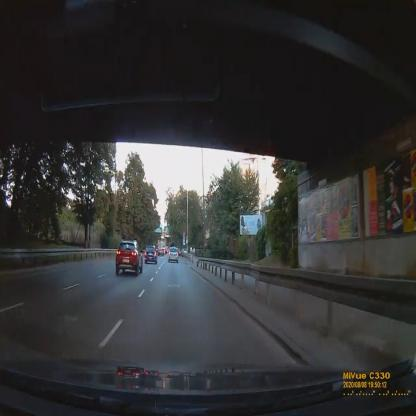cars: (116, 241, 142, 276), (144, 245, 158, 264), (168, 247, 178, 264), (158, 249, 164, 256)
